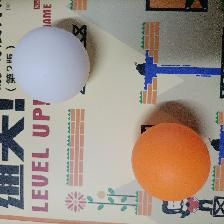WhiteBall: (12, 25, 90, 103)
YellowBall: (129, 122, 210, 201)
